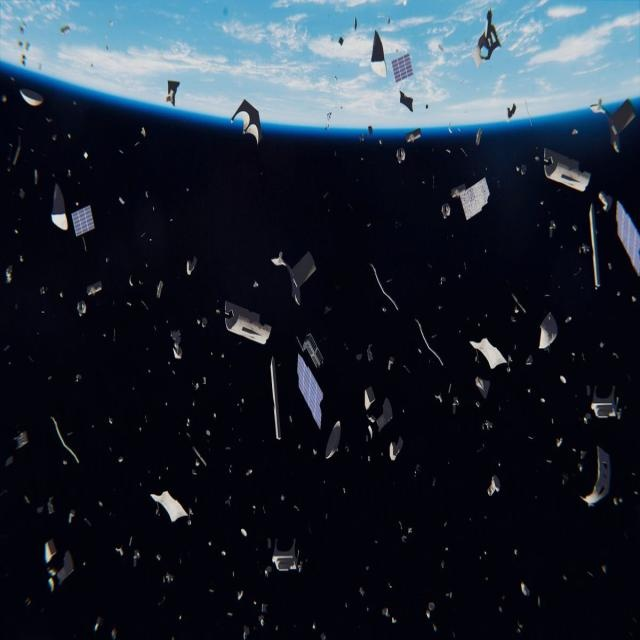large_debris: (586, 95, 637, 153), (270, 248, 318, 307), (543, 145, 592, 194), (614, 182, 640, 272), (579, 444, 611, 515), (225, 298, 272, 346), (473, 5, 503, 71), (230, 89, 261, 149), (366, 261, 401, 314), (413, 320, 448, 369), (470, 328, 506, 375), (591, 377, 624, 427), (587, 197, 601, 299), (270, 356, 282, 440), (324, 417, 343, 468), (389, 51, 415, 88), (51, 181, 69, 233), (537, 314, 557, 355), (72, 204, 96, 238), (371, 31, 388, 77), (17, 85, 48, 109), (508, 291, 527, 330), (472, 369, 492, 406), (485, 471, 505, 505), (391, 90, 419, 114), (55, 5, 73, 42), (4, 261, 19, 299), (387, 436, 405, 465), (166, 78, 181, 108), (170, 329, 183, 359), (185, 250, 198, 278), (517, 578, 532, 600), (474, 123, 486, 148), (394, 145, 407, 168), (406, 128, 424, 144), (155, 278, 168, 299), (504, 102, 520, 119), (87, 278, 102, 296), (549, 213, 559, 237), (77, 299, 86, 317), (5, 453, 15, 468), (69, 507, 77, 524), (187, 507, 194, 526), (133, 546, 139, 568), (4, 341, 13, 354), (20, 52, 27, 68), (367, 346, 374, 362), (560, 371, 567, 387), (26, 356, 38, 365), (556, 431, 562, 449), (40, 284, 48, 297), (388, 355, 396, 368), (94, 619, 101, 633), (201, 315, 208, 329), (526, 354, 533, 368), (37, 504, 45, 516), (84, 517, 92, 529), (119, 195, 126, 207), (67, 429, 75, 439), (384, 605, 392, 615), (25, 595, 31, 608), (19, 186, 25, 198), (46, 117, 56, 124), (167, 573, 174, 583), (17, 38, 23, 49), (130, 273, 134, 289), (83, 150, 89, 160), (141, 125, 146, 137), (203, 374, 208, 386), (118, 548, 126, 555), (205, 428, 211, 437), (25, 41, 30, 51), (25, 496, 31, 504), (111, 629, 116, 638), (109, 417, 114, 426), (119, 455, 124, 464), (8, 356, 12, 367), (47, 375, 53, 382), (22, 19, 26, 29), (52, 134, 57, 142), (2, 95, 6, 104), (156, 554, 161, 561), (222, 548, 227, 555), (192, 469, 197, 476), (109, 20, 114, 26), (208, 541, 213, 547), (83, 560, 87, 567), (64, 459, 68, 466), (21, 252, 23, 264), (15, 230, 21, 234), (20, 26, 23, 34), (60, 292, 63, 299), (196, 460, 199, 467), (163, 577, 165, 585), (179, 616, 182, 620), (100, 503, 102, 508)
